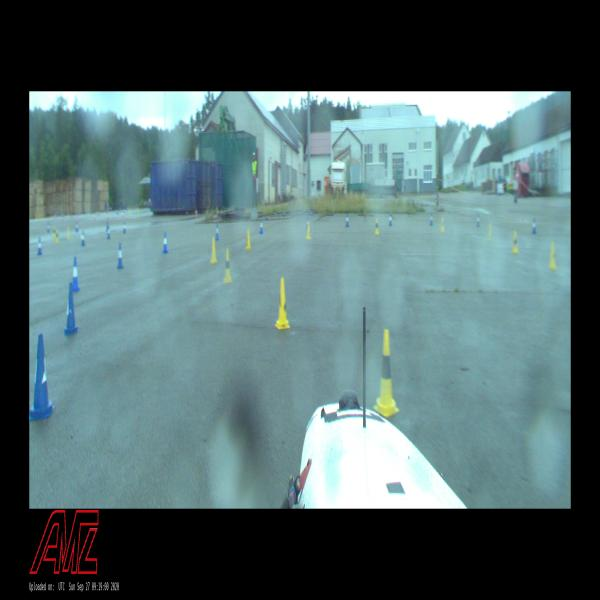blue_cone: (29, 333, 52, 419), (64, 284, 78, 333), (73, 256, 79, 291), (118, 243, 124, 268), (163, 232, 168, 253), (37, 237, 41, 255), (532, 217, 536, 234), (215, 224, 219, 239), (81, 231, 85, 245), (259, 220, 263, 233), (389, 214, 393, 226), (476, 214, 480, 226), (107, 224, 110, 239), (123, 221, 126, 233), (346, 215, 349, 227), (430, 214, 433, 225), (47, 222, 50, 232), (76, 222, 78, 232)
yellow_cone: (377, 328, 396, 414), (276, 278, 288, 328), (224, 249, 232, 282), (210, 238, 218, 263), (550, 245, 557, 270), (512, 231, 518, 253), (246, 231, 251, 250), (375, 219, 379, 234), (488, 222, 491, 241), (441, 218, 445, 232), (307, 224, 310, 238), (56, 230, 59, 243), (67, 228, 70, 239), (53, 226, 56, 237)
